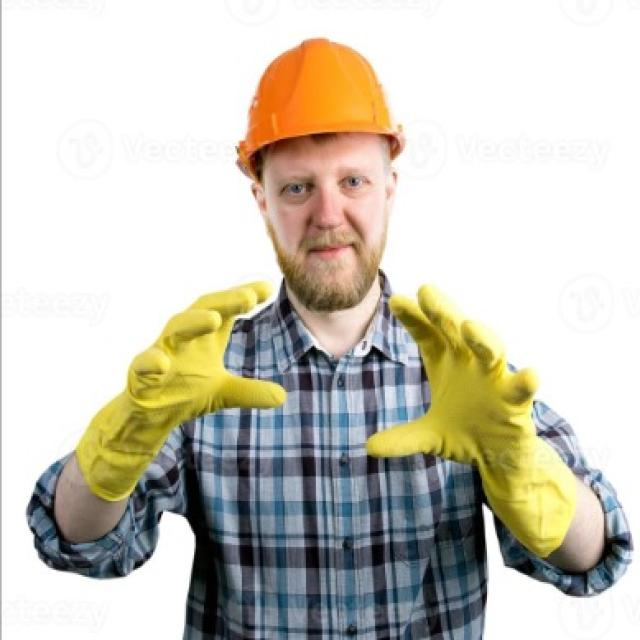gloved: (363, 283, 578, 559), (72, 279, 286, 503)
